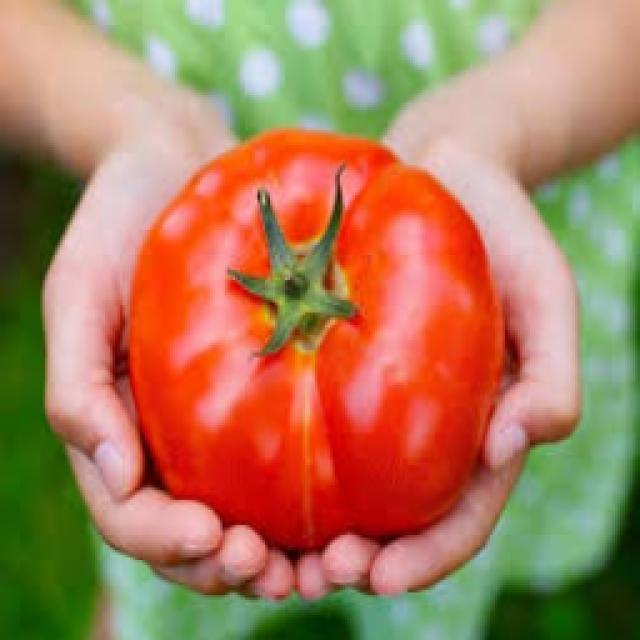tomato: (118, 128, 513, 550)
